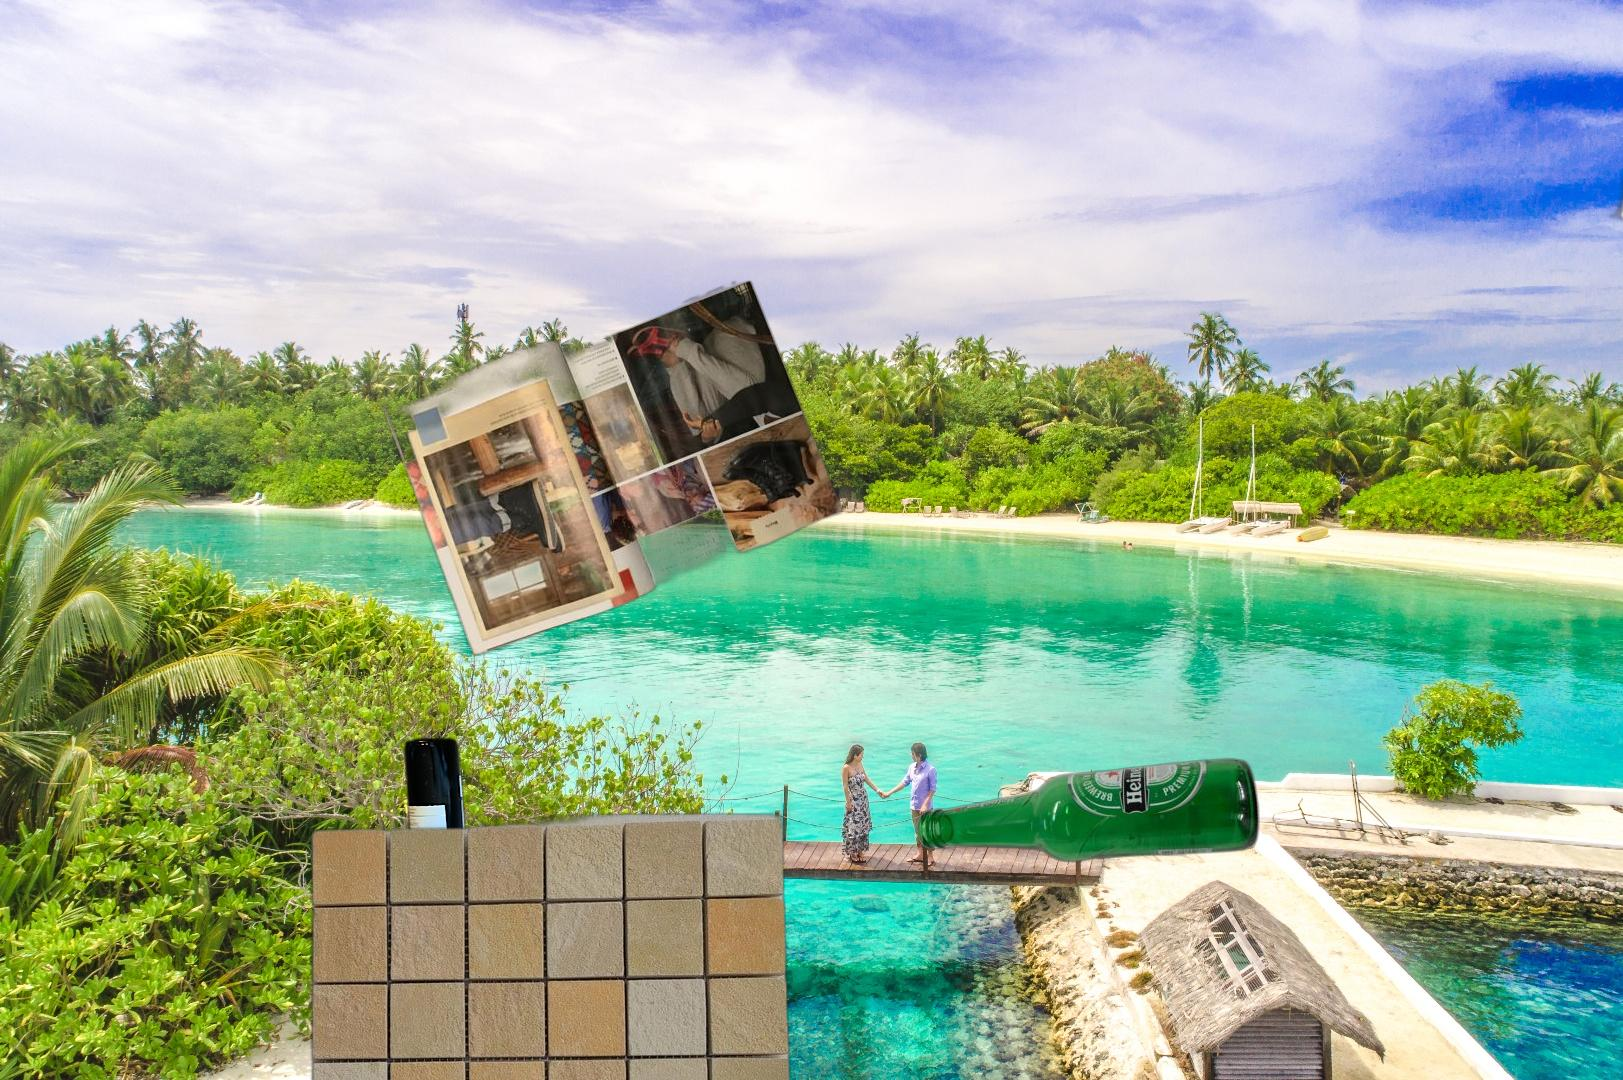glass: (913, 736, 1264, 865), (400, 732, 472, 968)
paper: (377, 277, 846, 659), (1600, 42, 1623, 340)
trashbox-cardboard: (304, 809, 804, 1080)
